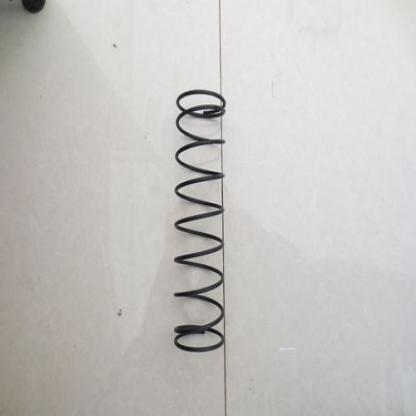FOD: (167, 85, 232, 358)
